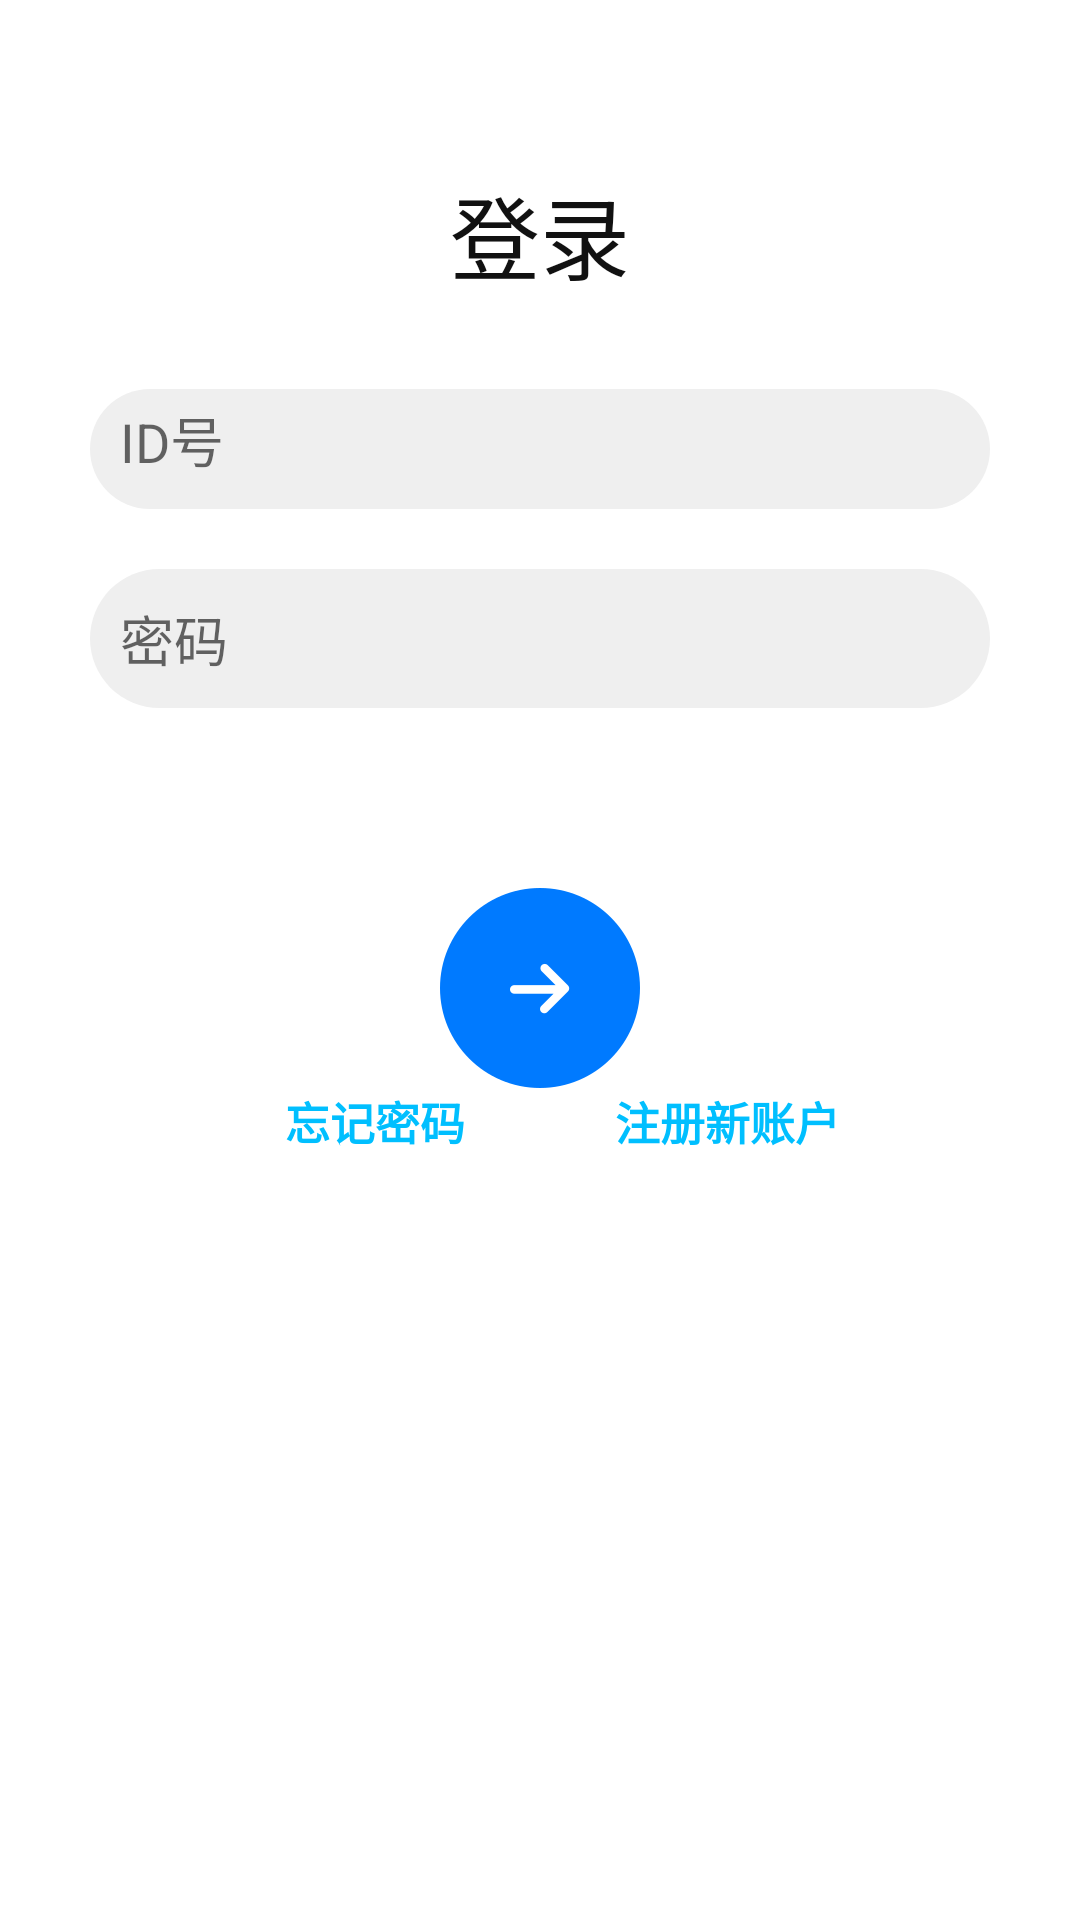

Locate icon controls on the screen. Image size 1080*1920, boxes as region(x1, y1, x2, y2).
loginbtn: region(440, 888, 640, 1088)
